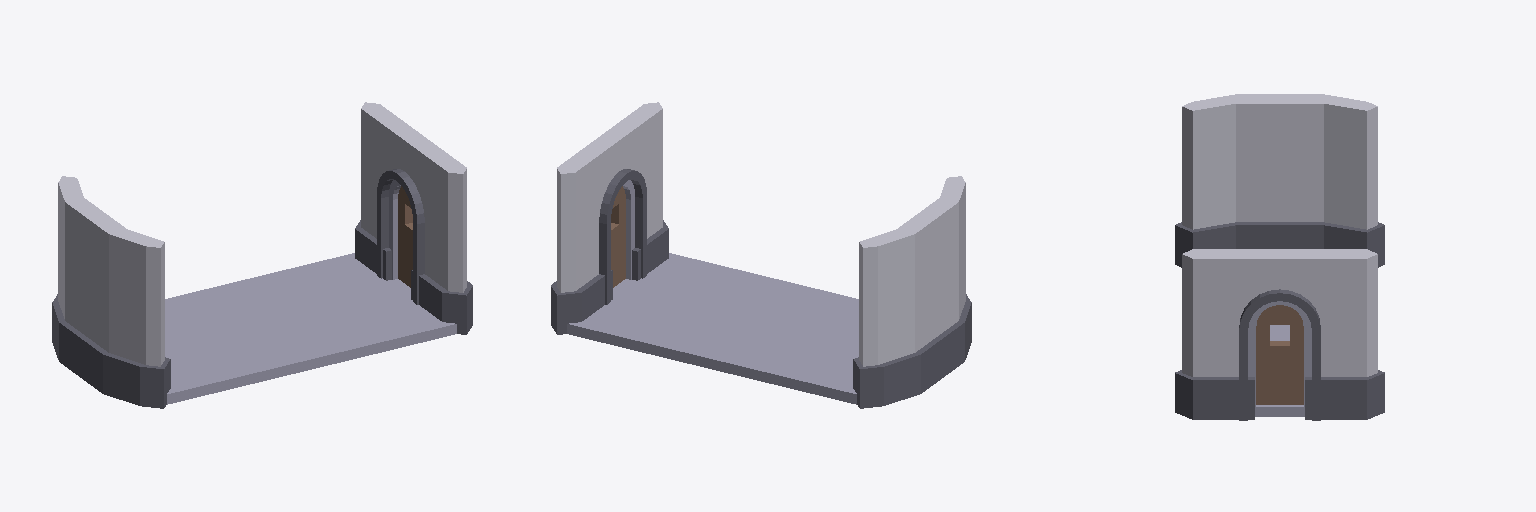
Rendered from hallway_short_06.obj.
The picture shows the model from 3 angles: view 1: azimuth 30°, elevation 25°; view 2: azimuth 150°, elevation 25°; view 3: azimuth 270°, elevation 25°; orthographic projection.
Parts seen in each view (by area): view 1: floor_05_105, wall_03_101, door_01_106; view 2: floor_05_105, wall_03_101, door_01_106; view 3: door_01_106, wall_03_101, floor_05_105.
Part boxes in pixels (x1,y1,x2,y2): floor_05_105: (165,253,456,404); wall_03_101: (52,176,170,408); door_01_106: (355,102,472,334); floor_05_105: (567,253,858,404); wall_03_101: (853,176,971,408); door_01_106: (551,102,668,334); door_01_106: (1175,249,1384,420); wall_03_101: (1175,94,1384,267); floor_05_105: (1255,325,1304,413).
Bounding box in the file's own units: 2.31 × 1 × 1.21.